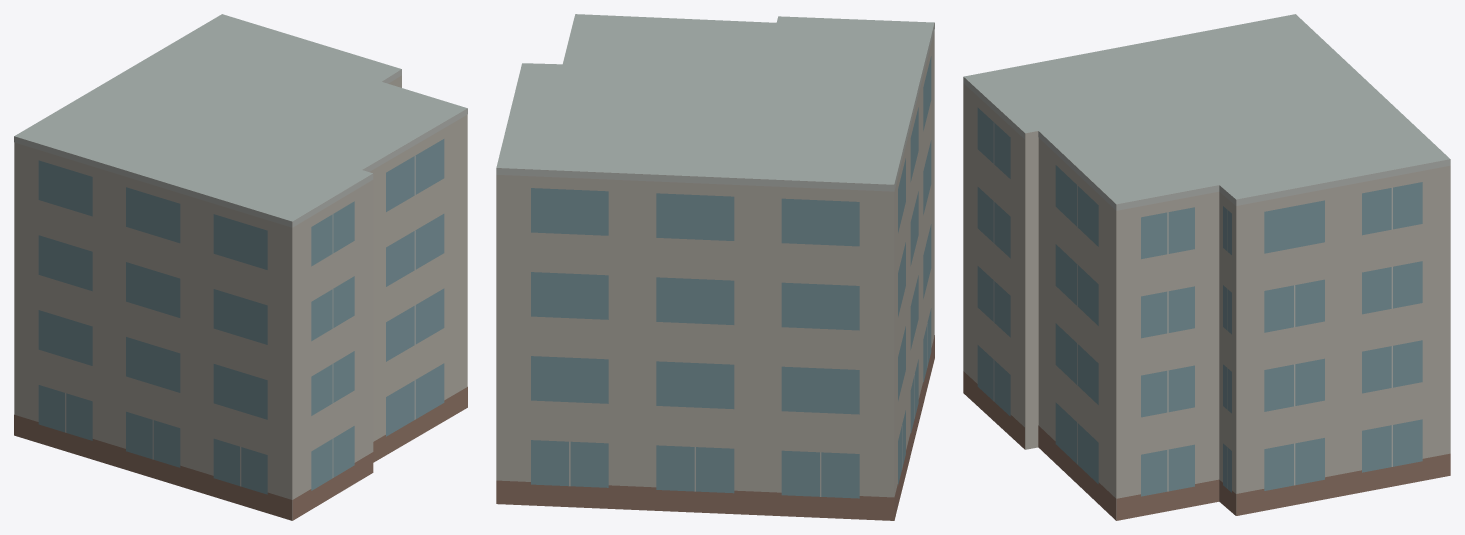
File: survey-upis-32620434.glb
3 views of the same model, side by side, from view 1: azimuth 30°, elevation 25°; view 2: azimuth 150°, elevation 25°; view 3: azimuth 270°, elevation 25° (orthographic). The views are drawn at different scales.
Visible parts, largest first — view 1: survey-upis-32620434.tmp; view 2: survey-upis-32620434.tmp; view 3: survey-upis-32620434.tmp.
Part boxes in pixels (<box>): survey-upis-32620434.tmp: <box>14,14,467,520</box>; survey-upis-32620434.tmp: <box>496,14,934,520</box>; survey-upis-32620434.tmp: <box>963,14,1450,520</box>.
Bounding box in the file's own units: 15.35 × 11.89 × 16.59.
